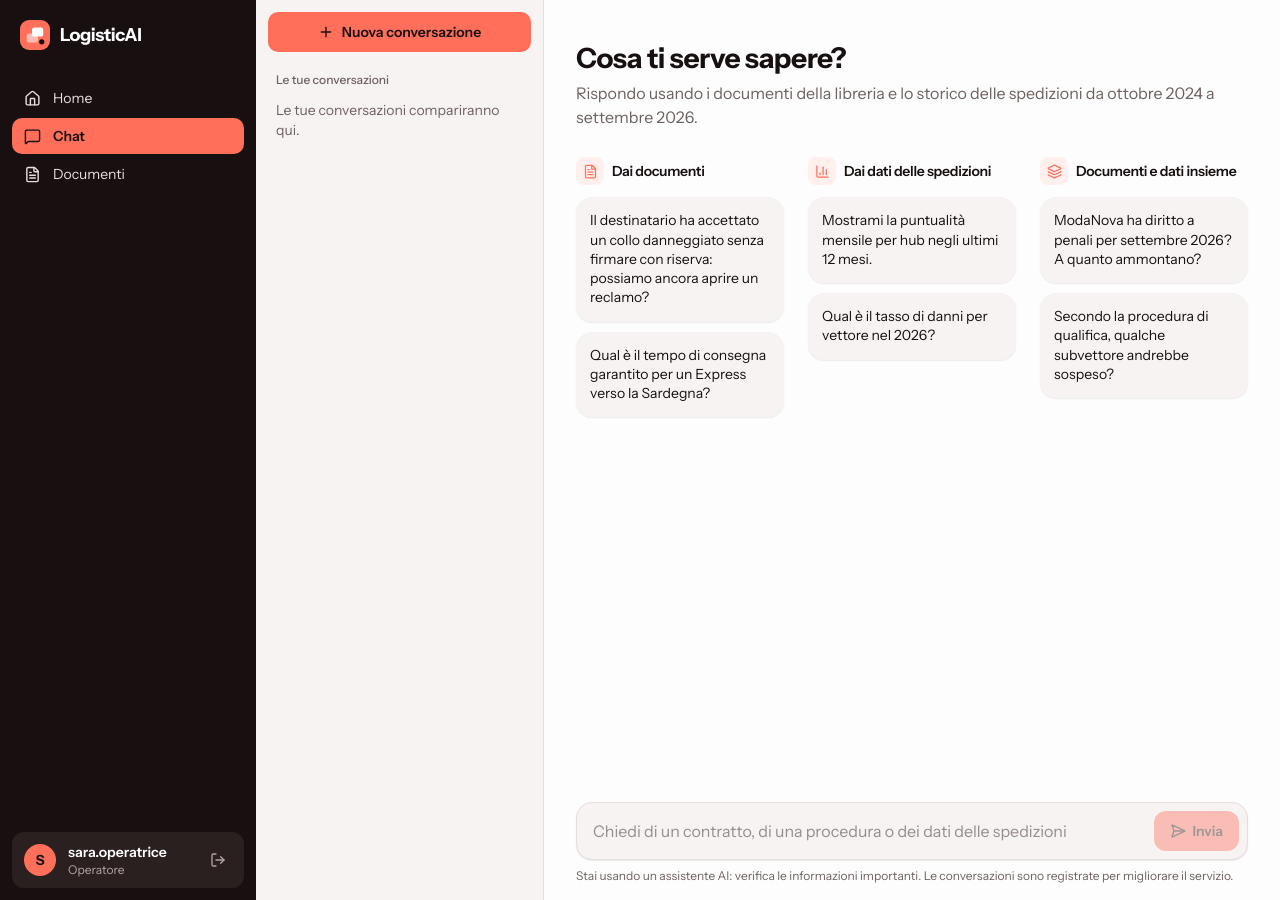
Test case: chat › errore del server: messaggio e Riprova che reinvia la stessa domanda
Type "Penale ModaNova?" into the text box named "Scrivi una domanda".
click(866, 831); type("Penale ModaNova?")  # box [585,811,1146,851]
Then press Enter
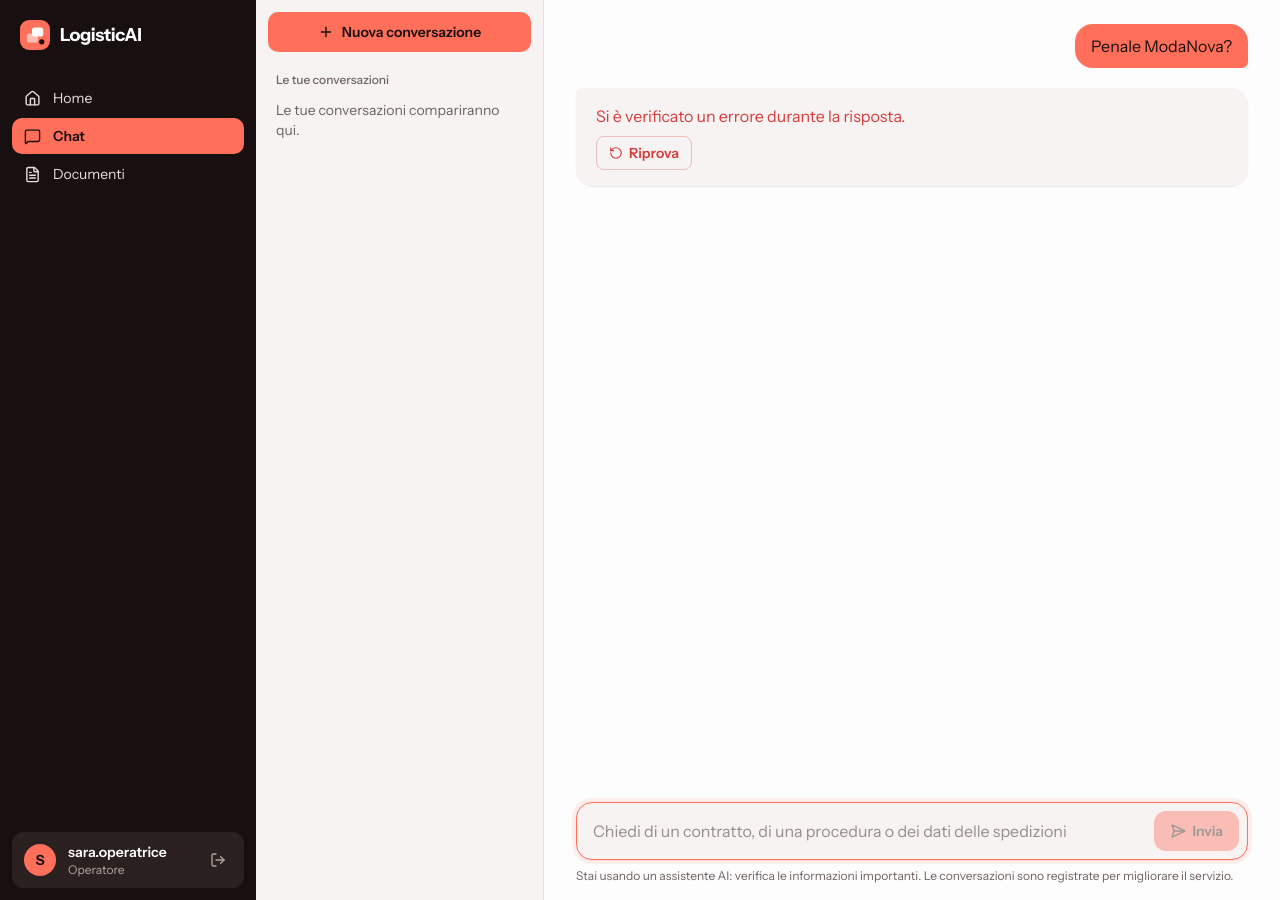
Now the message shows "Si è verificato un errore", box [596,106,905,126]
Click the button "Riprova".
click(644, 153)  # box [596,136,692,170]
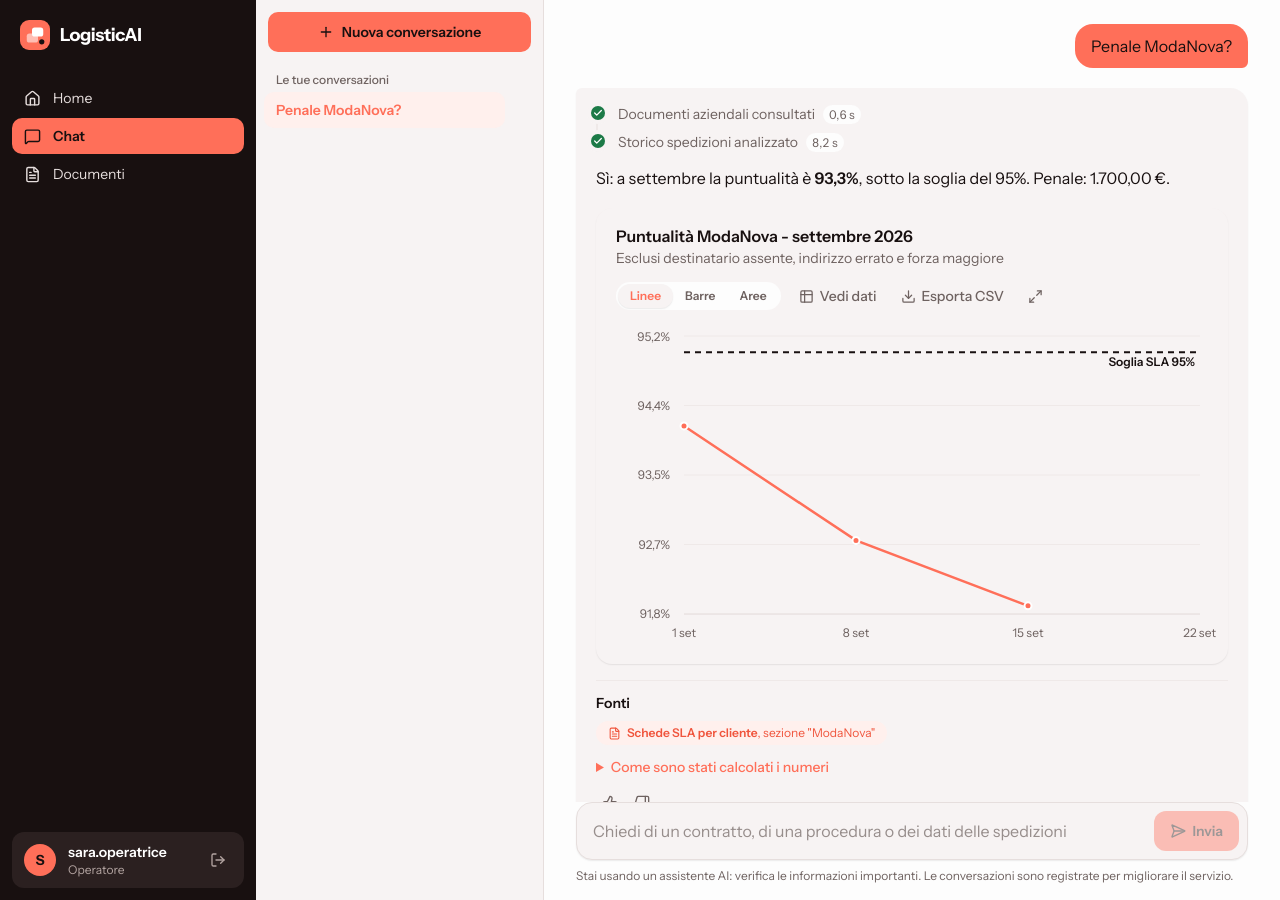
Now the text "Penale ModaNova?" is shown once, box [1075,24,1248,68]
Now the text "93,3%" is shown, box [814,168,858,188]
